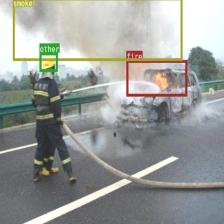fire: (126, 60, 187, 96)
smoke: (12, 0, 182, 60)
